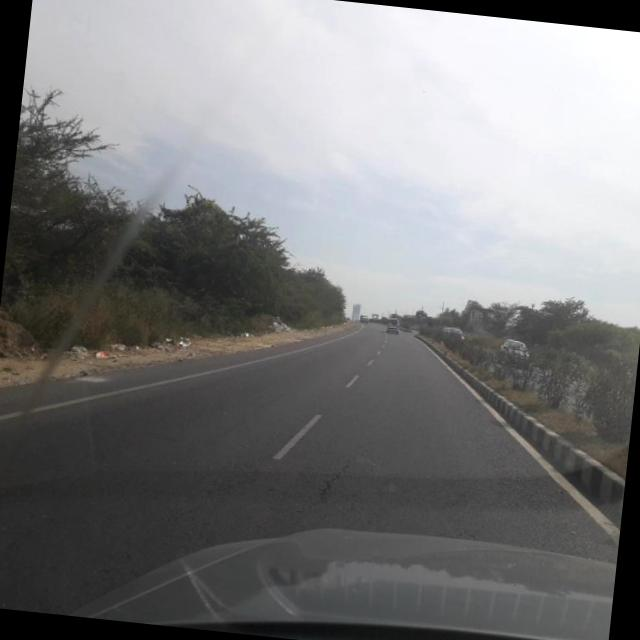pothole: (311, 440, 364, 518)
